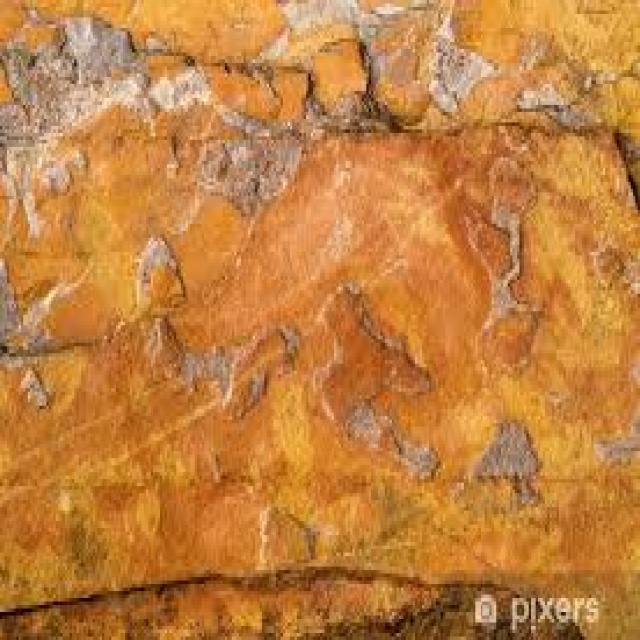Metamorphic: (2, 3, 640, 580)
